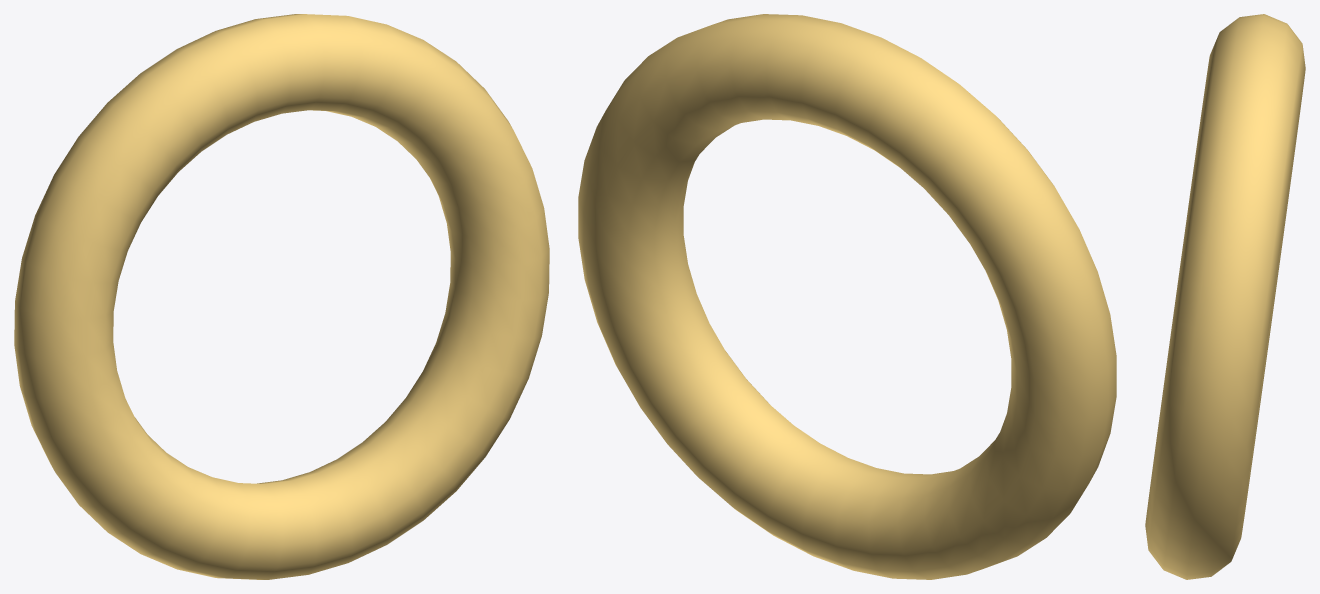
The model's file is ring.glb.
3 views of the same model, side by side, from view 1: azimuth 30°, elevation 25°; view 2: azimuth 150°, elevation 25°; view 3: azimuth 270°, elevation 25° (orthographic). The views are drawn at different scales.
Parts seen in each view (by area): view 1: ring; view 2: ring; view 3: ring.
Part boxes in pixels (left/top/right/bottom): ring: left=14, top=14, right=549, bottom=579; ring: left=578, top=14, right=1116, bottom=579; ring: left=1145, top=14, right=1305, bottom=579.
Size of the model in its own units: 0.026 by 0.0258 by 0.0073.
